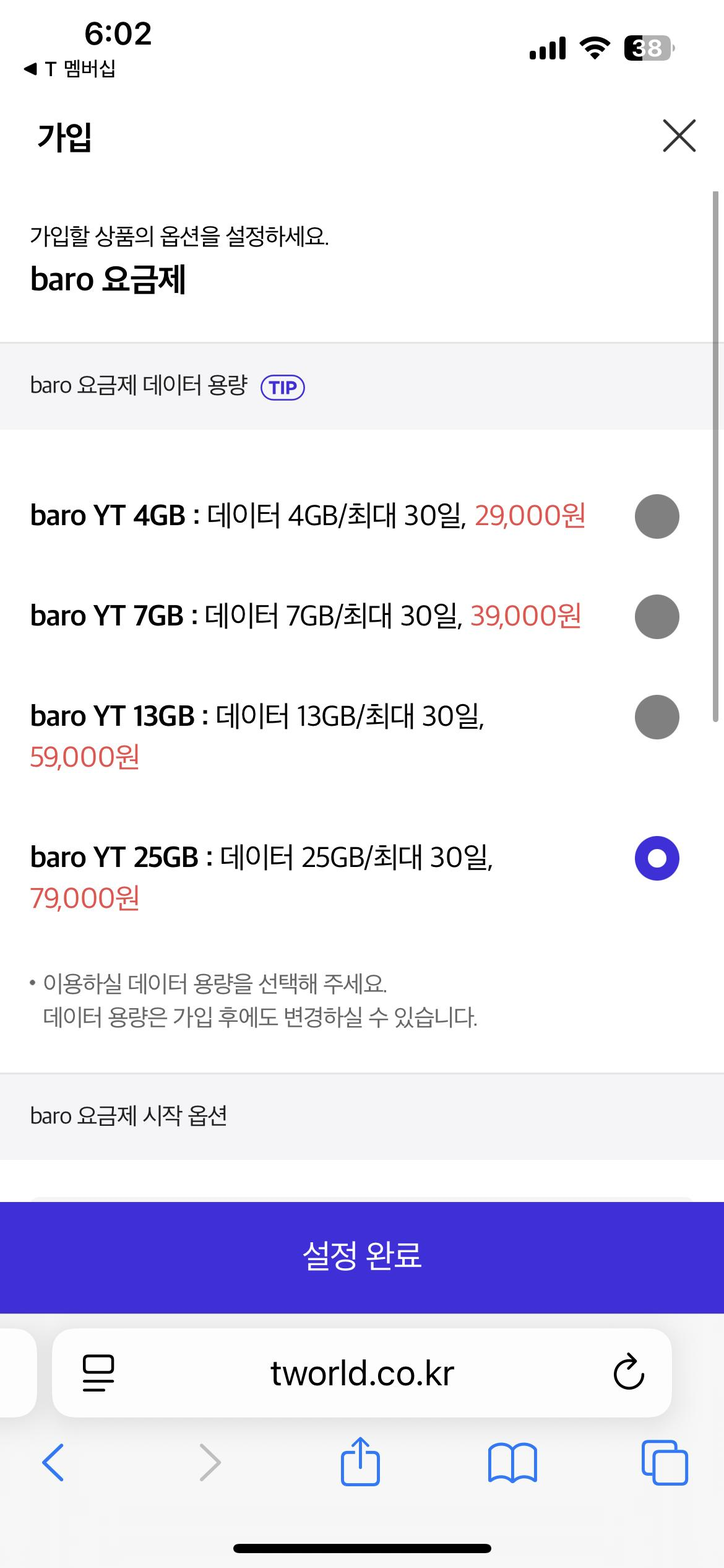button: (0, 1201, 724, 1319), (656, 105, 697, 155)
checkbox: (19, 479, 687, 551), (12, 700, 689, 760), (21, 588, 693, 646), (4, 832, 681, 883)
